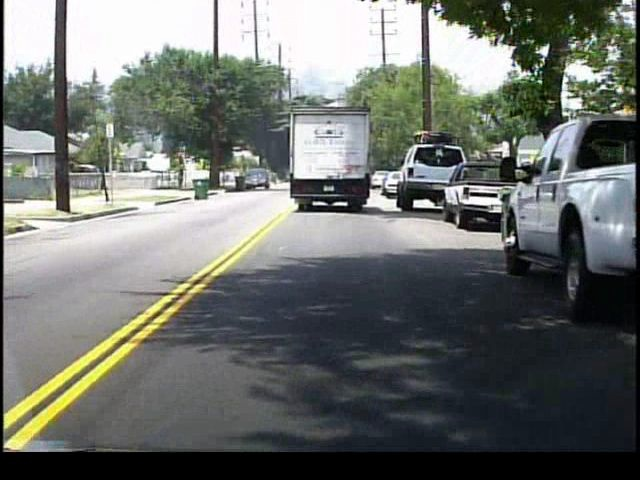person: (178, 164, 188, 189)
